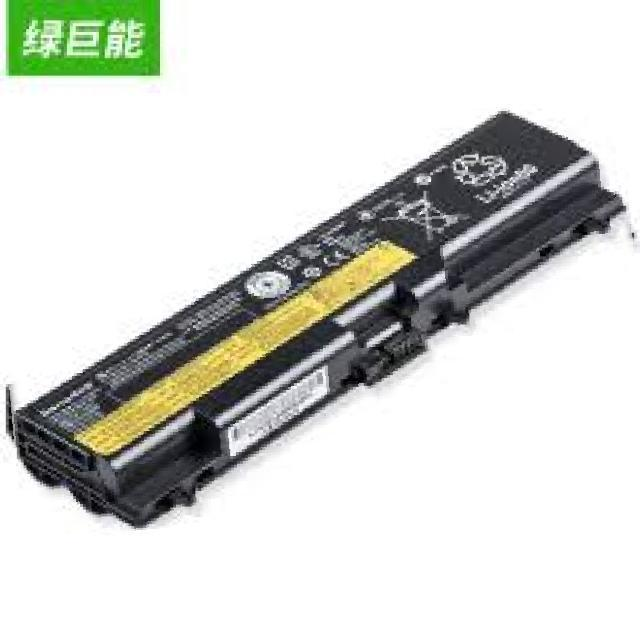Battery: (12, 90, 636, 547)
